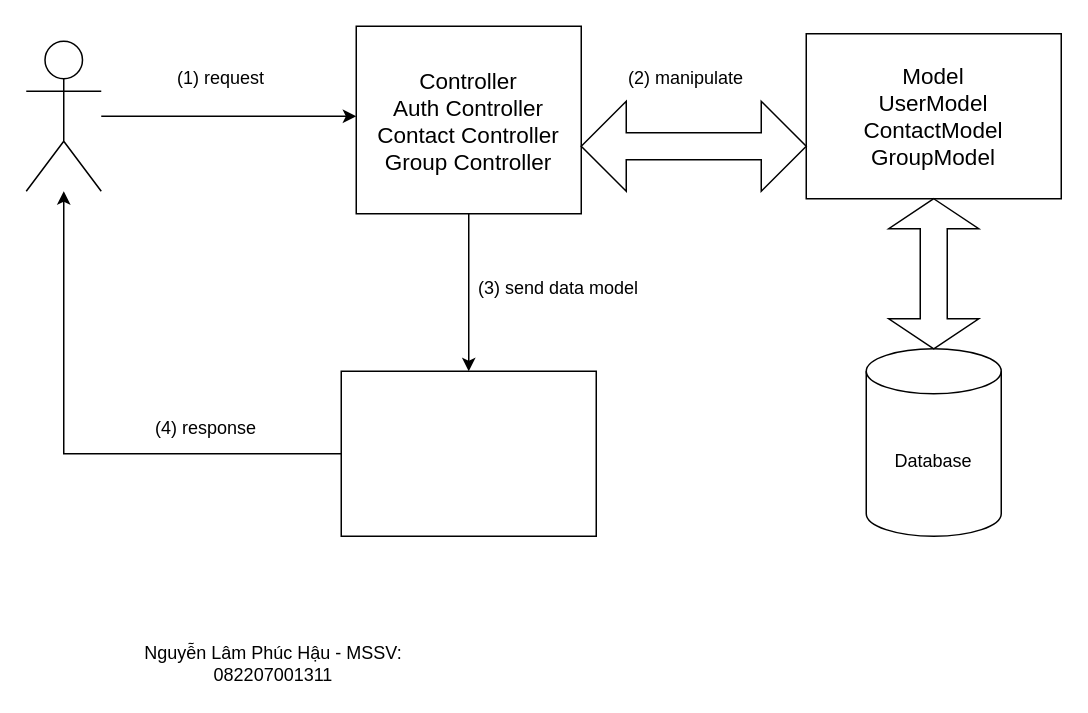
Some shapes in this 1088 by 713 pixel diagram are drawn without their labels. The centre of each missing label's shape, as x and y in pixels:
Actor: the point at 63,115
View Login View ContactListView ContactFormView: the point at 468,453
